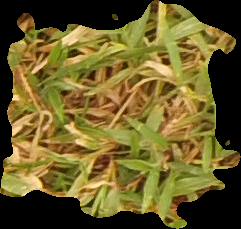grass: (2, 1, 240, 227)
